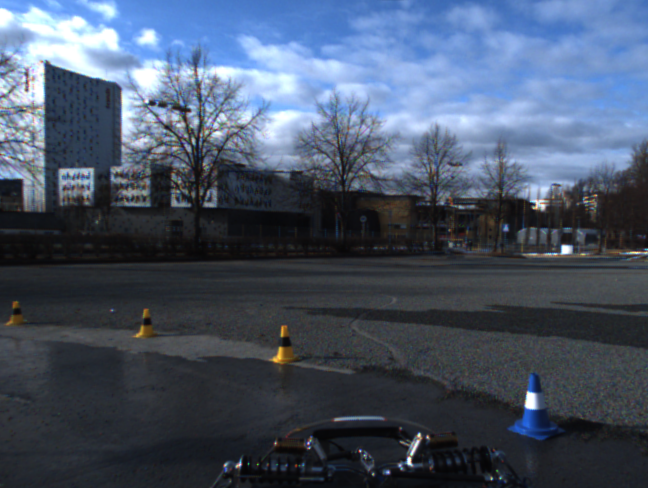cone-small-blue: (507, 373, 566, 440)
cone-small-yellow: (268, 325, 301, 364), (131, 308, 159, 339), (5, 301, 28, 326)
